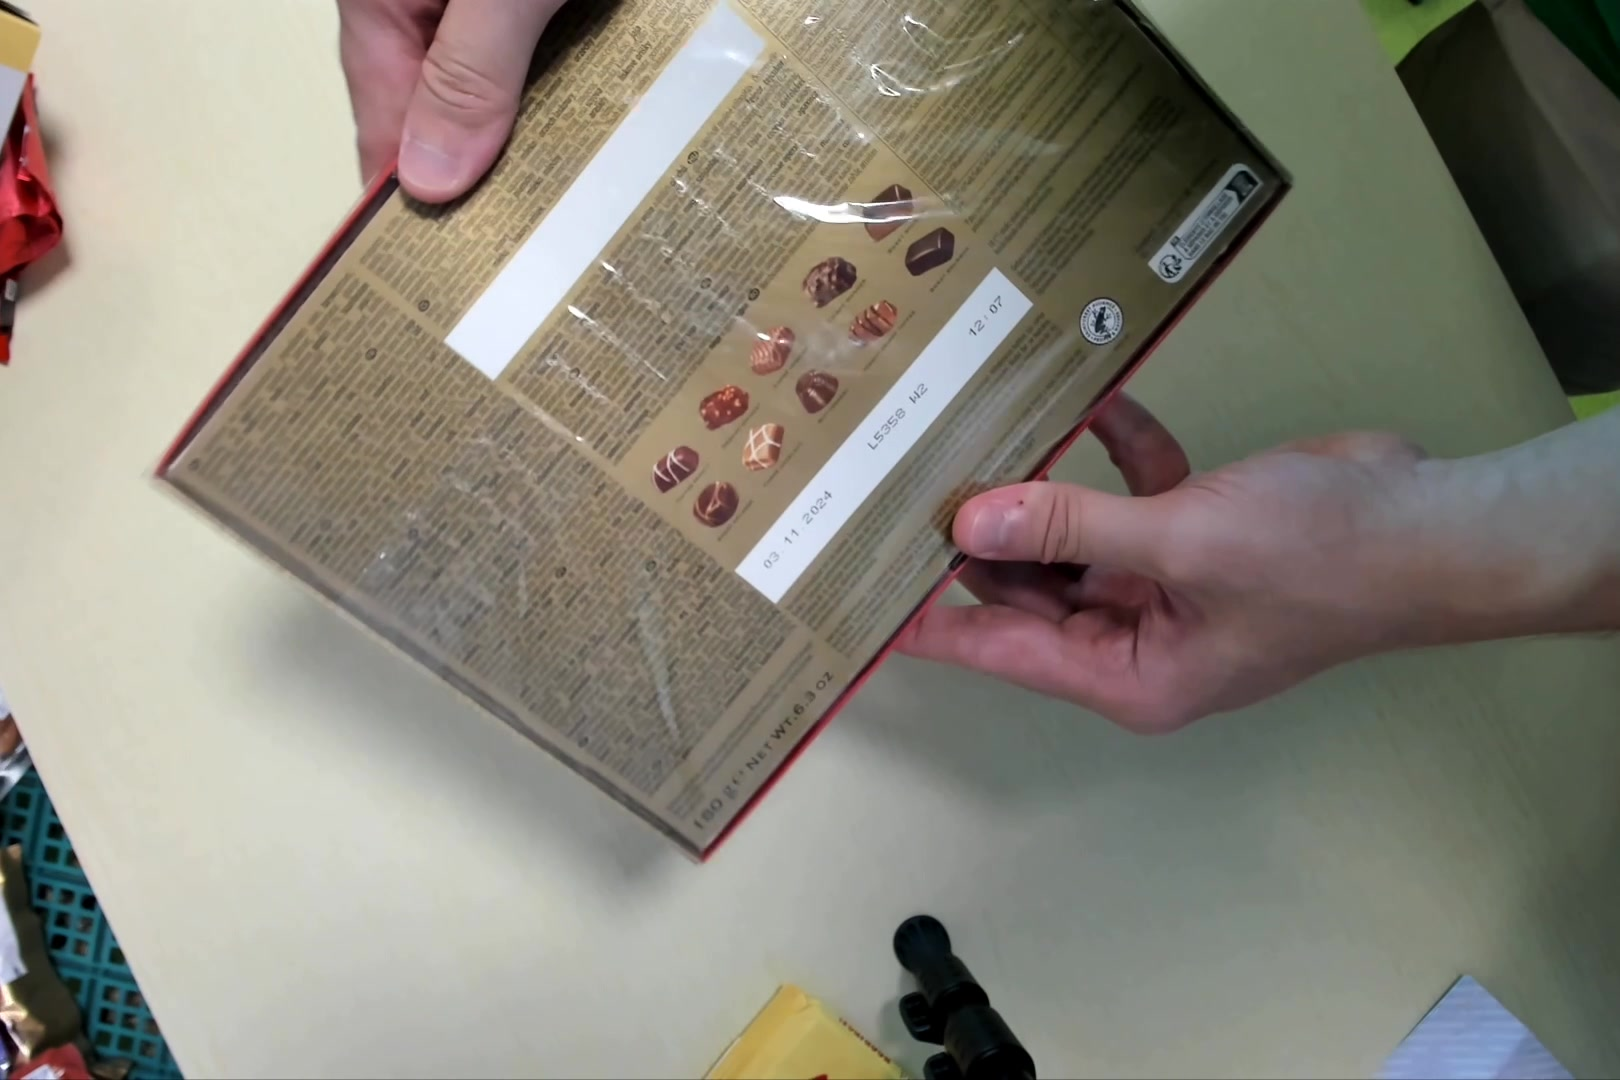SweetsChocolatesOthers_100-199g_NonHalal_NonHealthy: (174, 20, 1292, 865)
